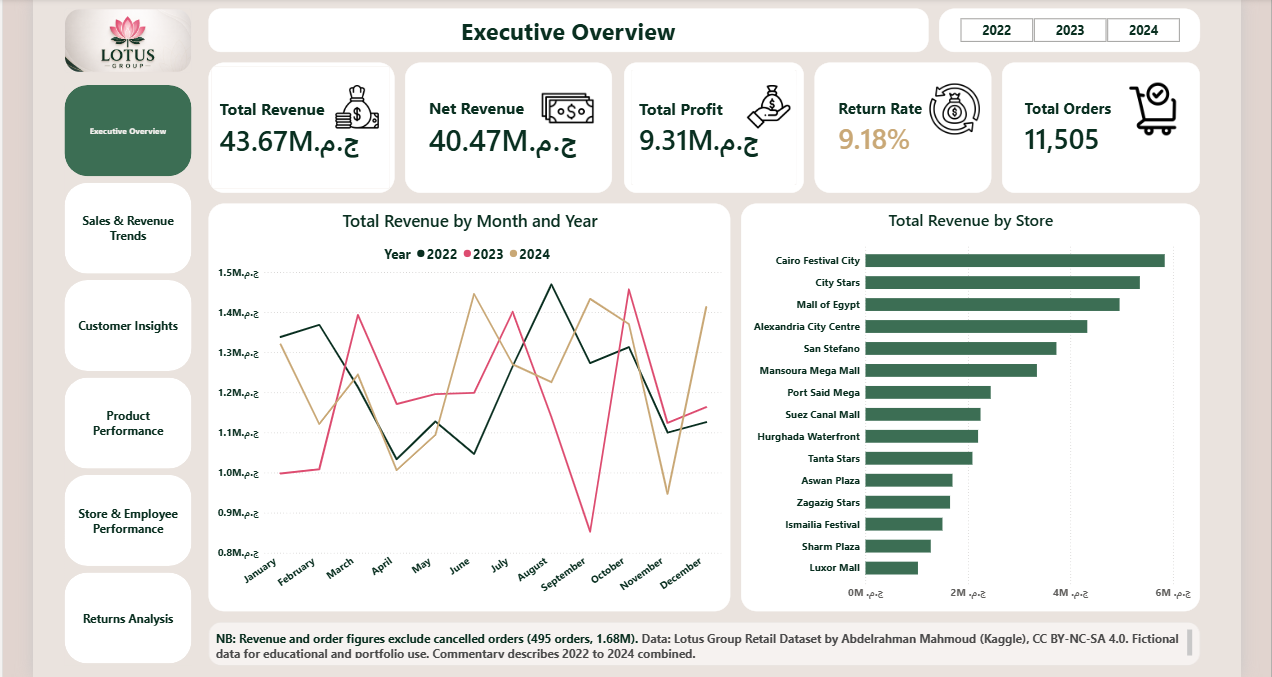

The page's visual inventory and layout, read from the dashboard file:
{"tool":"powerbi","page":{"name":"Executive Overview","canvas":[1920,1080],"ordinal":0},"visuals":[{"type":"cardVisual","fields":{"Data":["_Measures.Total Revenue"]},"box":[279.2,102.6,295.9,207.6],"z":0},{"type":"cardVisual","fields":{"Data":["_Measures.Total Profit"]},"box":[940.1,102.6,286.3,207.6],"z":1000},{"type":"cardVisual","fields":{"Data":["_Measures.Total Orders"]},"box":[1541.3,102.6,314.9,207.6],"z":2000},{"type":"cardVisual","fields":{"Data":["_Measures.Return Rate"]},"box":[1243.1,102.6,281.5,207.6],"z":3000},{"type":"cardVisual","fields":{"Data":["_Measures.Net Revenue"]},"box":[591.7,102.6,329.3,207.6],"z":4000},{"type":"lineChart","title":"Total Revenue by Month and Year","fields":{"Y":["_Measures.Total Revenue"],"Category":["dim_date.month_name"],"Series":["dim_date.year"]},"box":[279.2,326.9,830.3,649],"z":5000},{"type":"clusteredBarChart","title":"Total Revenue by Store","fields":{"Category":["dim_stores.store_name"],"Y":["_Measures.Total Revenue"]},"box":[1126.2,326.9,730.1,649],"z":6000},{"type":"slicer","fields":{"Values":["dim_date.year"]},"box":[1441.1,16.7,415.1,69.2],"z":7000},{"type":"pageNavigator","box":[50.1,138.4,202.8,923.3],"z":8000},{"type":"shape","box":[279.2,16.7,1145.2,69.2],"z":9000},{"type":"image","box":[50.1,16.7,202.8,102.6],"z":10000},{"type":"textbox","box":[279.2,992.5,1577.1,69.2],"z":11000},{"type":"image","box":[474.8,138.4,81.1,69.2],"z":12000},{"type":"image","box":[1126.2,138.4,88.3,69.2],"z":13000},{"type":"image","box":[789.7,131.2,121.7,88.3],"z":14000},{"type":"image","box":[1424.4,131.2,83.5,90.7],"z":15000},{"type":"image","box":[1739.3,131.2,83.5,90.7],"z":16000}]}

Visuals, with their boxes on the page's 1920x1080 design canvas (x1, y1, x2, y2). These are canvas units, not pixel positions in the 1272x677 screenshot, which may show the page scaled, cropped or inside an application window:
cardVisual - _Measures.Total Revenue: select_region(279, 103, 575, 310)
cardVisual - _Measures.Total Profit: select_region(940, 103, 1226, 310)
cardVisual - _Measures.Total Orders: select_region(1541, 103, 1856, 310)
cardVisual - _Measures.Return Rate: select_region(1243, 103, 1525, 310)
cardVisual - _Measures.Net Revenue: select_region(592, 103, 921, 310)
"Total Revenue by Month and Year" lineChart: select_region(279, 327, 1110, 976)
"Total Revenue by Store" clusteredBarChart: select_region(1126, 327, 1856, 976)
slicer - dim_date.year: select_region(1441, 17, 1856, 86)
pageNavigator: select_region(50, 138, 253, 1062)
shape: select_region(279, 17, 1424, 86)
image: select_region(50, 17, 253, 119)
textbox: select_region(279, 992, 1856, 1062)
image: select_region(475, 138, 556, 208)
image: select_region(1126, 138, 1214, 208)
image: select_region(790, 131, 911, 220)
image: select_region(1424, 131, 1508, 222)
image: select_region(1739, 131, 1823, 222)
